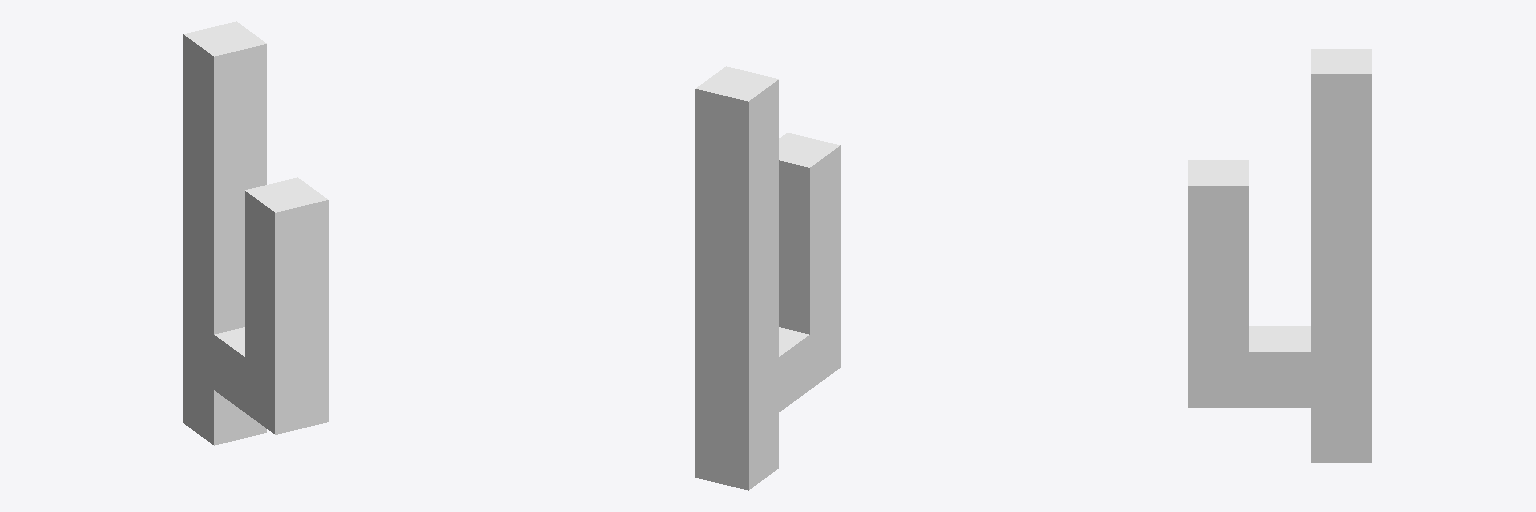
The model's file is Kaktus_02.obj.
3 renders of one model, left to right at view 1: azimuth 30°, elevation 25°; view 2: azimuth 150°, elevation 25°; view 3: azimuth 270°, elevation 25°, orthographic.
Bounding box in the file's own units: 1 × 7 × 3.